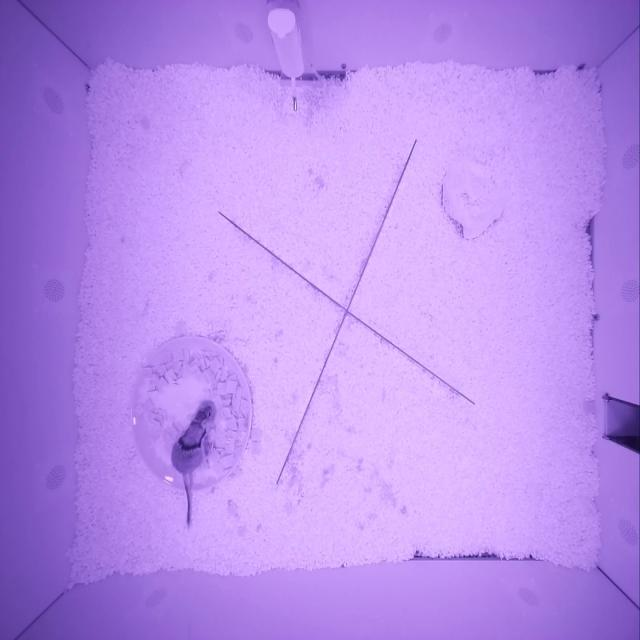adult_front: (171, 405, 214, 473)
